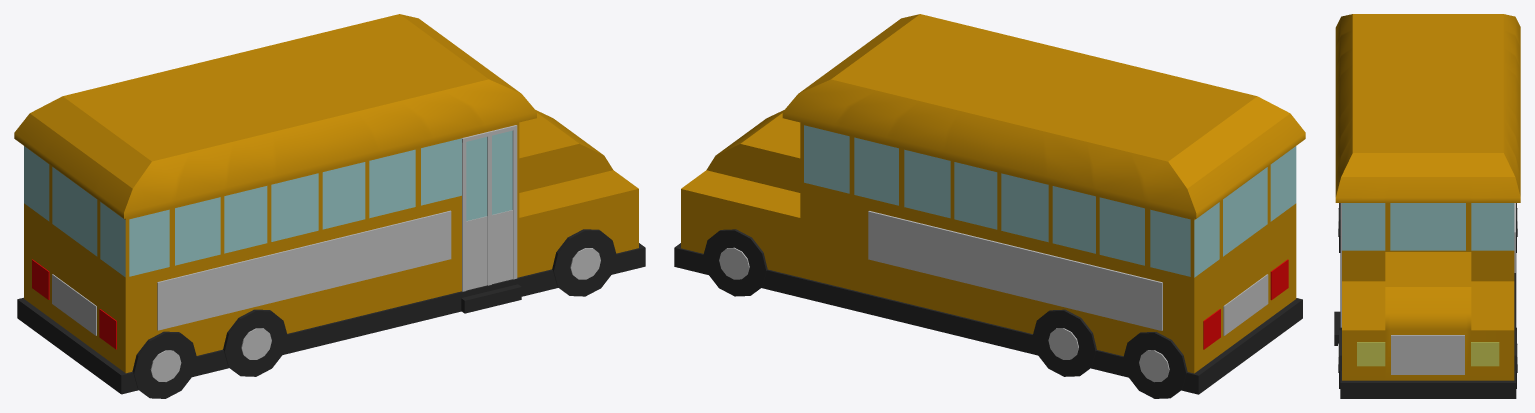
The model's file is Onibus.fbx.
The picture shows the model from 3 angles, left to right: view 1: azimuth 30°, elevation 25°; view 2: azimuth 150°, elevation 25°; view 3: azimuth 270°, elevation 25°; orthographic projection. The views are drawn at different scales.
Parts seen in each view (by area): view 1: pCube81; view 2: pCube81; view 3: pCube81.
Part boxes in pixels (x1,y1,x2,y2): pCube81: (14,14,645,398); pCube81: (674,14,1305,398); pCube81: (1334,14,1520,398).
Bounding box in the file's own units: 7 × 2.97 × 2.55.
